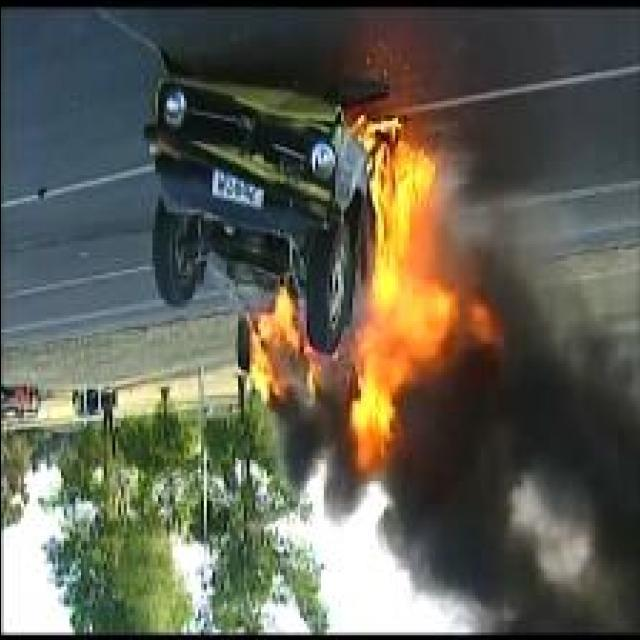Fire: (344, 111, 498, 478), (244, 284, 316, 398)
